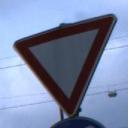preferencia: (12, 12, 118, 117)
